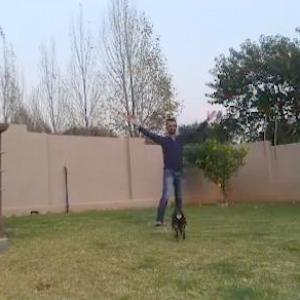takeoff: (116, 110, 208, 224)
